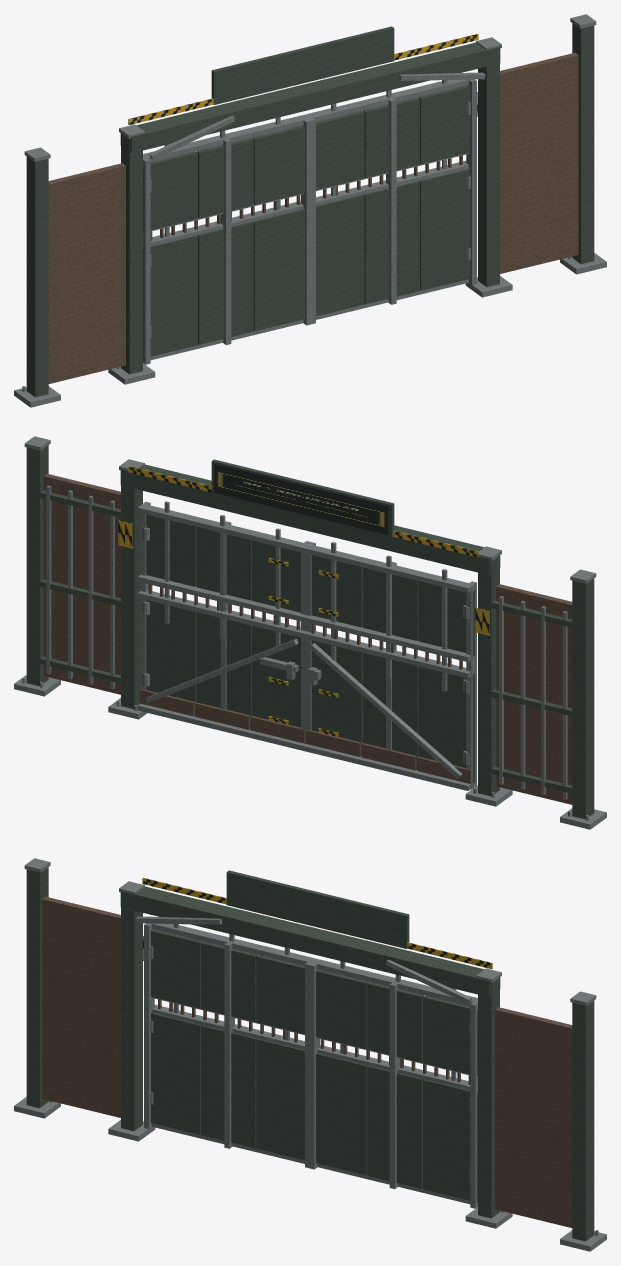
The model's file is PZ_Blackline_Compound_Gate_Module.glb.
3 renders of one model, top to bottom at view 1: azimuth 30°, elevation 25°; view 2: azimuth 150°, elevation 25°; view 3: azimuth 330°, elevation 25°, orthographic.
Visible parts, largest first — view 1: SM_Wing_East_Sheet_Panel, SM_Wing_West_Sheet_Panel, SM_Gate_Overhead_Lintel, SM_Gate_Shelter_Signboard_Back, SM_LeftGate_LowerSheet_2, SM_LeftGate_LowerSheet_1, SM_RightGate_LowerSheet_1, SM_RightGate_LowerSheet_0, SM_RightGate_LowerSheet_2, SM_Gate_WingWest_SquarePost, SM_LeftGate_LowerSheet_0, SM_Gate_Right_SquarePost (+24 smaller); view 2: SM_Wing_East_Sheet_Panel, SM_Wing_West_Sheet_Panel, SM_Gate_Overhead_Lintel, SM_Gate_WingWest_SquarePost, SM_Gate_Shelter_Sign_Decal, SM_LeftGate_LowerSheet_0, SM_Gate_WingEast_SquarePost, SM_RightGate_LowerSheet_1, SM_RightGate_LowerSheet_0, SM_Gate_Right_SquarePost, SM_LeftGate_LowerSheet_1, SM_Gate_Left_SquarePost (+52 smaller); view 3: SM_Wing_West_Sheet_Panel, SM_Wing_East_Sheet_Panel, SM_Gate_Overhead_Lintel, SM_Gate_Shelter_Signboard_Back, SM_RightGate_LowerSheet_2, SM_LeftGate_LowerSheet_1, SM_RightGate_LowerSheet_1, SM_LeftGate_LowerSheet_0, SM_LeftGate_LowerSheet_2, SM_Gate_WingEast_SquarePost, SM_RightGate_LowerSheet_0, SM_Gate_Left_SquarePost (+24 smaller).
Part boxes in pixels (<box>): SM_Wing_East_Sheet_Panel: <box>500,52,578,273</box>; SM_Wing_West_Sheet_Panel: <box>48,163,125,383</box>; SM_Gate_Overhead_Lintel: <box>120,42,500,153</box>; SM_Gate_Shelter_Signboard_Back: <box>211,26,394,104</box>; SM_LeftGate_LowerSheet_2: <box>253,209,304,331</box>; SM_LeftGate_LowerSheet_1: <box>198,221,253,344</box>; SM_RightGate_LowerSheet_1: <box>364,181,419,304</box>; SM_RightGate_LowerSheet_0: <box>420,169,469,290</box>; SM_RightGate_LowerSheet_2: <box>316,194,364,316</box>; SM_Gate_WingWest_SquarePost: <box>26,156,48,397</box>; SM_LeftGate_LowerSheet_0: <box>143,235,197,358</box>; SM_Gate_Right_SquarePost: <box>478,63,499,287</box>; SM_Wing_East_Sheet_Panel: <box>43,473,120,694</box>; SM_Wing_West_Sheet_Panel: <box>496,584,572,804</box>; SM_Gate_Overhead_Lintel: <box>120,464,500,575</box>; SM_Gate_WingWest_SquarePost: <box>572,578,594,819</box>; SM_Gate_Shelter_Sign_Decal: <box>214,463,388,534</box>; SM_LeftGate_LowerSheet_0: <box>418,666,475,783</box>; SM_Gate_WingEast_SquarePost: <box>26,445,48,686</box>; SM_RightGate_LowerSheet_1: <box>196,612,251,716</box>; SM_RightGate_LowerSheet_0: <box>146,600,196,702</box>; SM_Gate_Right_SquarePost: <box>121,485,142,709</box>; SM_LeftGate_LowerSheet_1: <box>363,653,418,769</box>; SM_Gate_Left_SquarePost: <box>478,555,499,796</box>; SM_Wing_West_Sheet_Panel: <box>42,896,120,1117</box>; SM_Wing_East_Sheet_Panel: <box>495,1007,572,1227</box>; SM_Gate_Overhead_Lintel: <box>120,886,500,997</box>; SM_Gate_Shelter_Signboard_Back: <box>226,870,409,948</box>; SM_RightGate_LowerSheet_2: <box>316,1053,367,1175</box>; SM_LeftGate_LowerSheet_1: <box>201,1025,256,1148</box>; SM_RightGate_LowerSheet_1: <box>367,1065,422,1188</box>; SM_LeftGate_LowerSheet_0: <box>151,1013,200,1134</box>; SM_LeftGate_LowerSheet_2: <box>256,1038,304,1160</box>; SM_Gate_WingEast_SquarePost: <box>572,1000,594,1241</box>; SM_RightGate_LowerSheet_0: <box>423,1079,477,1202</box>; SM_Gate_Left_SquarePost: <box>121,907,142,1131</box>.
Bounding box in the file's own units: 10.39 × 4.76 × 0.5726.
5 materials, 5 textured.
